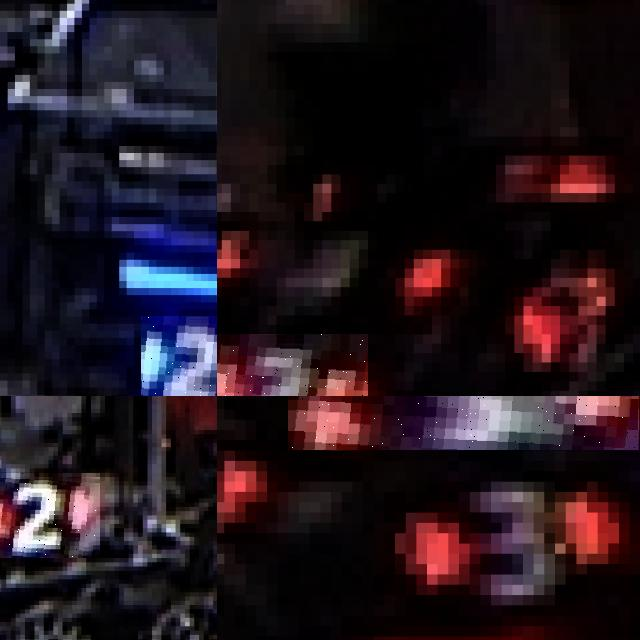B2: (141, 316, 217, 396)
R2: (0, 472, 100, 558)
R3: (395, 472, 619, 606), (288, 396, 640, 450), (505, 240, 615, 372), (217, 334, 367, 396)
